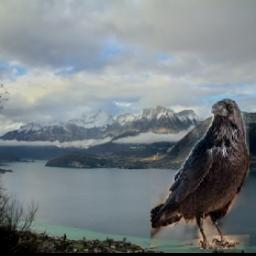Crow: (151, 99, 249, 250)
